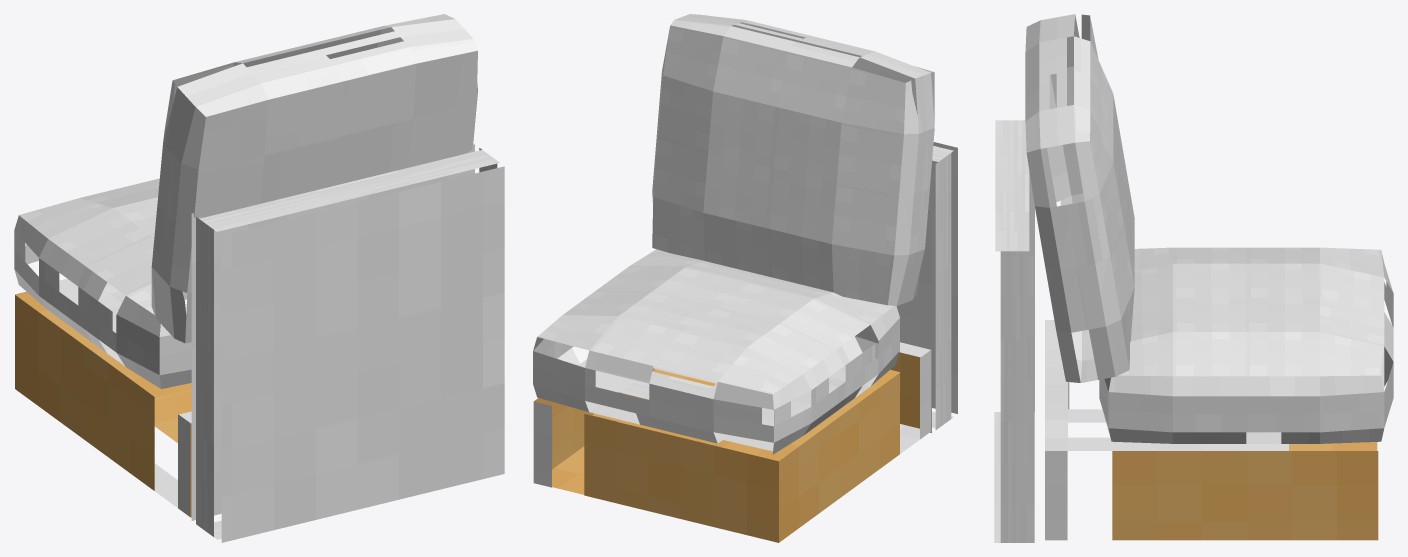
Rendered from simple_sofa_5.obj.
The picture shows the model from 3 angles, left to right: view 1: azimuth 30°, elevation 25°; view 2: azimuth 150°, elevation 25°; view 3: azimuth 270°, elevation 25°; orthographic projection. The views are drawn at different scales.
Visible parts, largest first — view 1: Cube.004; view 2: Cube.004; view 3: Cube.004.
Part boxes in pixels (x1,y1,x2,y2): Cube.004: (14, 14, 504, 542); Cube.004: (533, 14, 957, 542); Cube.004: (994, 14, 1393, 542).
Bounding box in the file's own units: 1.43 × 1.98 × 1.79.
